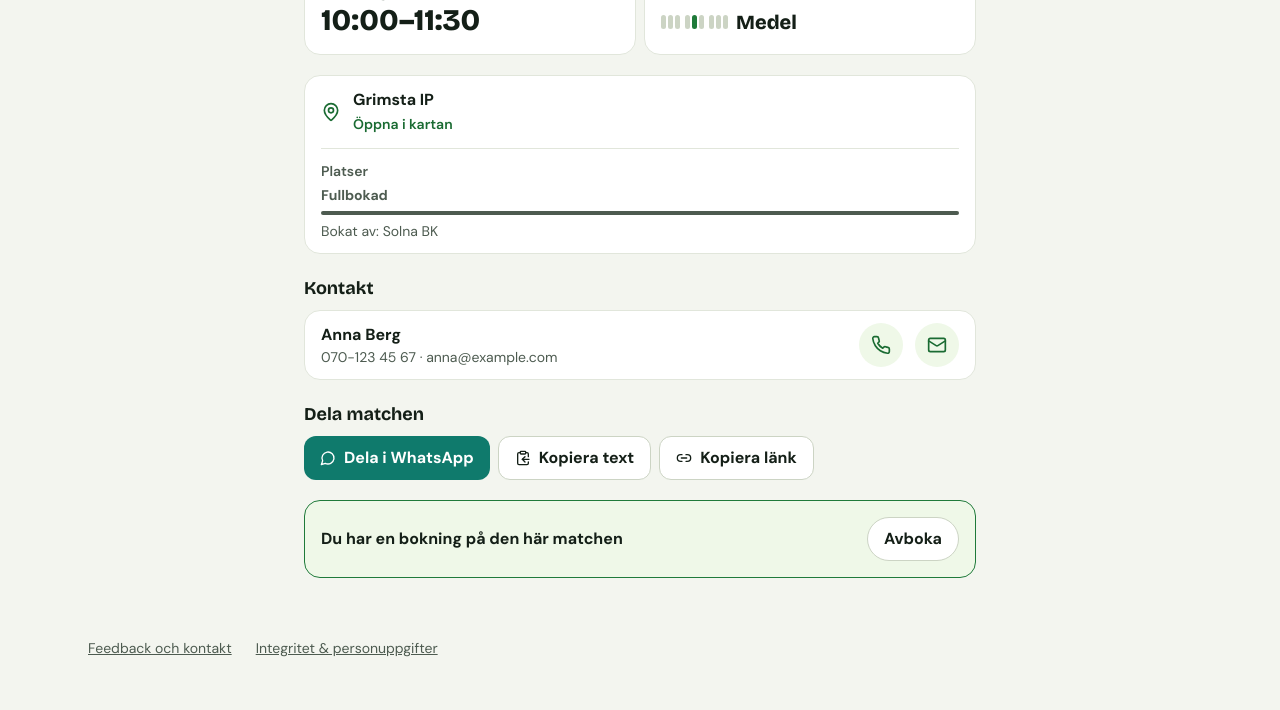
Test case: PracticeMatchDetailPage › picks up the cancel link from the booking email and lets the booker cancel
(page scrolled)
Expected: the text "Du har en bokning på den här matchen" is shown, [321,528,623,549]
What coordinates should you click on to do the following:
click the button "Avboka"
I would click on:
 (913, 539)
Its box is [867,517,959,561].
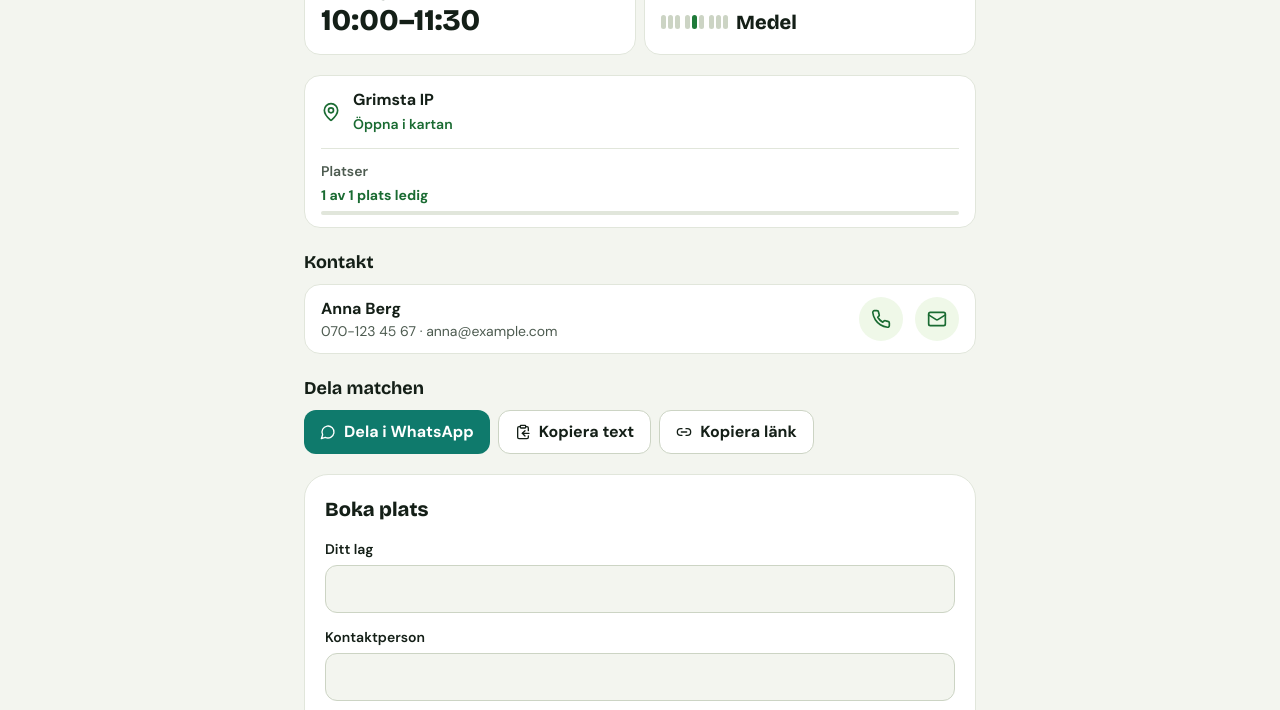
Expected: the text "1 av 1 plats ledig" is shown, [321,186,428,204]
